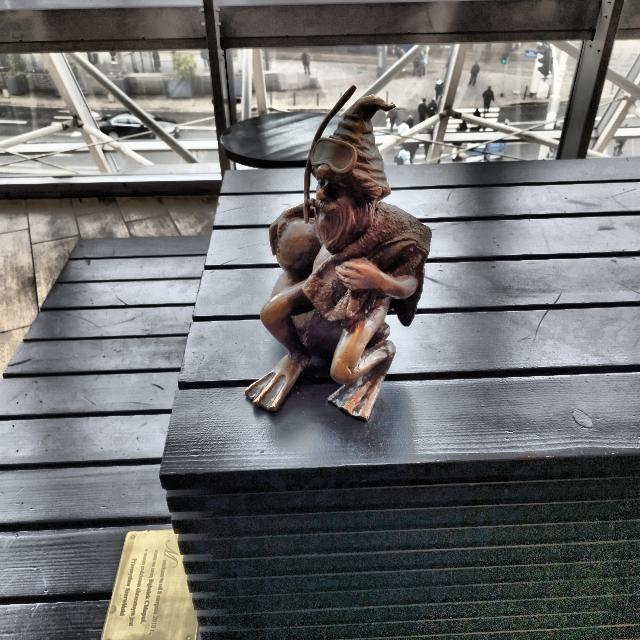Babelek_Chlaptus: (245, 86, 431, 420)
